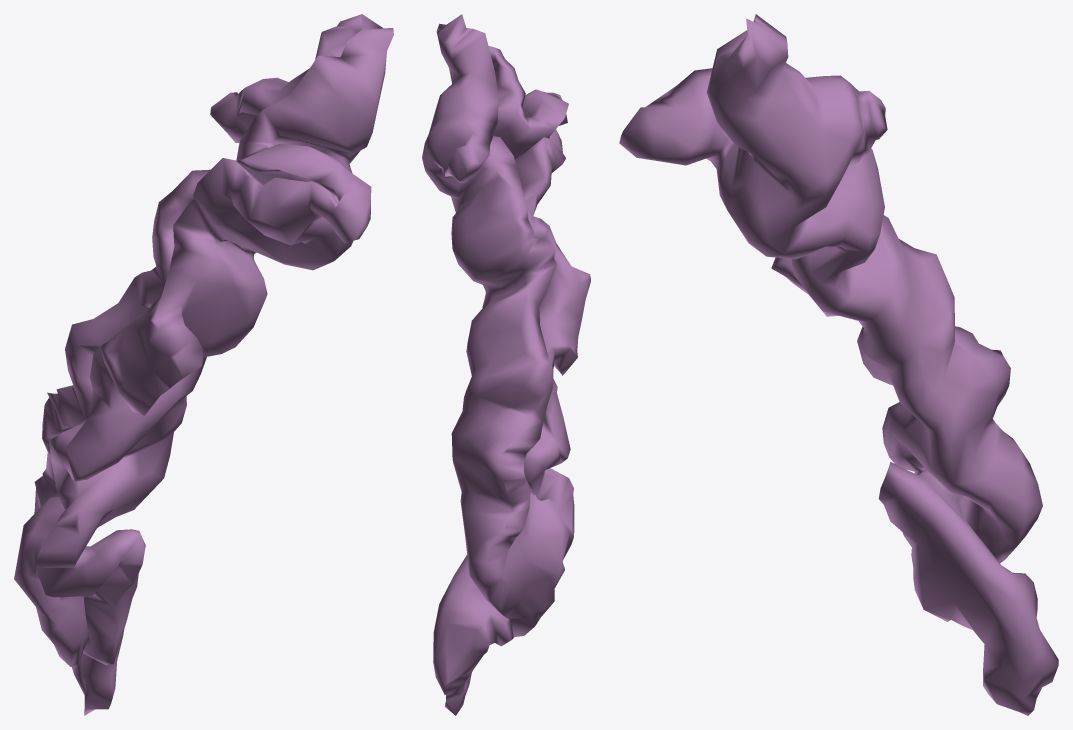
3 views of the same model, side by side, from view 1: azimuth 30°, elevation 25°; view 2: azimuth 150°, elevation 25°; view 3: azimuth 270°, elevation 25° (orthographic). The views are drawn at different scales.
Visible parts, largest first — view 1: 右侧颞上沟; view 2: 右侧颞上沟; view 3: 右侧颞上沟.
Part boxes in pixels (x1=…): 右侧颞上沟: x1=14, y1=14, x2=393, y2=715; 右侧颞上沟: x1=422, y1=14, x2=590, y2=715; 右侧颞上沟: x1=619, y1=14, x2=1058, y2=715.
Bounding box in the file's own units: 0.0527 × 0.1453 × 0.0759.
